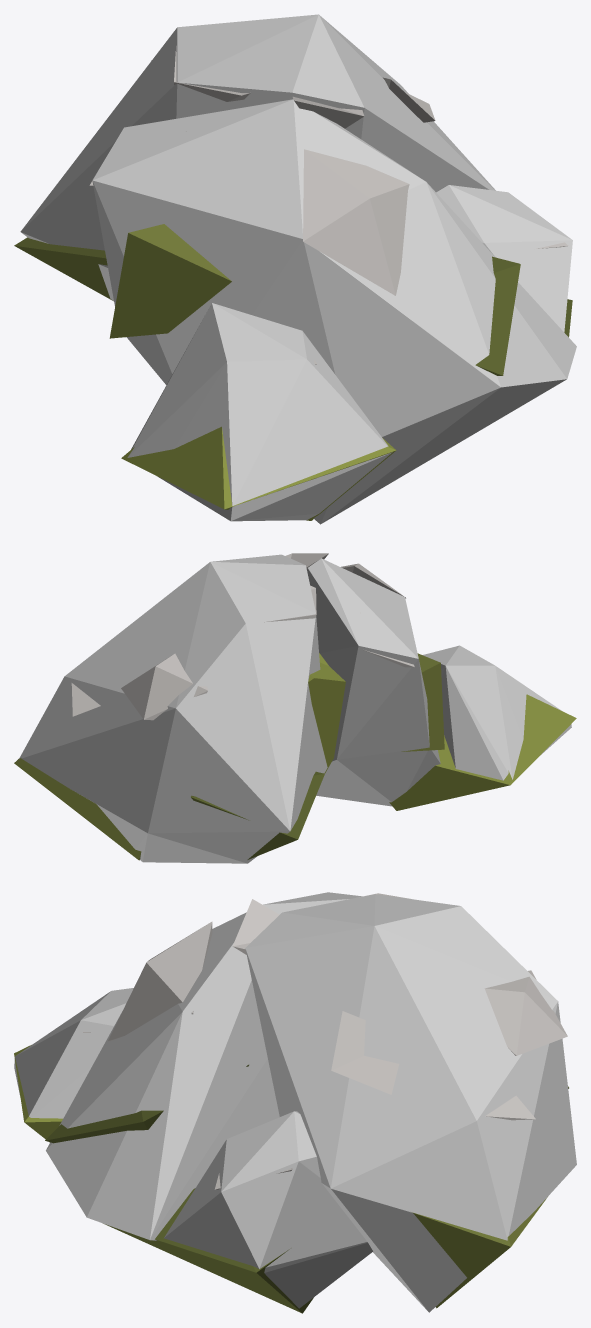
Rendered from SM_Env_Flowers_06.fbx.
3 renders of one model, top to bottom at view 1: azimuth 30°, elevation 25°; view 2: azimuth 150°, elevation 25°; view 3: azimuth 270°, elevation 25°, orthographic. The views are drawn at different scales.
Visible parts, largest first — view 1: SM_Env_Flowers_06_ConvexHulls, SM_Env_Flowers_06; view 2: SM_Env_Flowers_06_ConvexHulls, SM_Env_Flowers_06; view 3: SM_Env_Flowers_06_ConvexHulls, SM_Env_Flowers_06.
Part boxes in pixels (x1,y1,x2,y2): SM_Env_Flowers_06_ConvexHulls: (20, 14, 576, 524); SM_Env_Flowers_06: (14, 46, 572, 520); SM_Env_Flowers_06_ConvexHulls: (19, 554, 571, 863); SM_Env_Flowers_06: (14, 553, 576, 860); SM_Env_Flowers_06_ConvexHulls: (14, 892, 576, 1312); SM_Env_Flowers_06: (14, 893, 568, 1313).
Bounding box in the file's own units: 60.12 × 65.39 × 47.35.
Materials: 2 (1 with a texture image).
